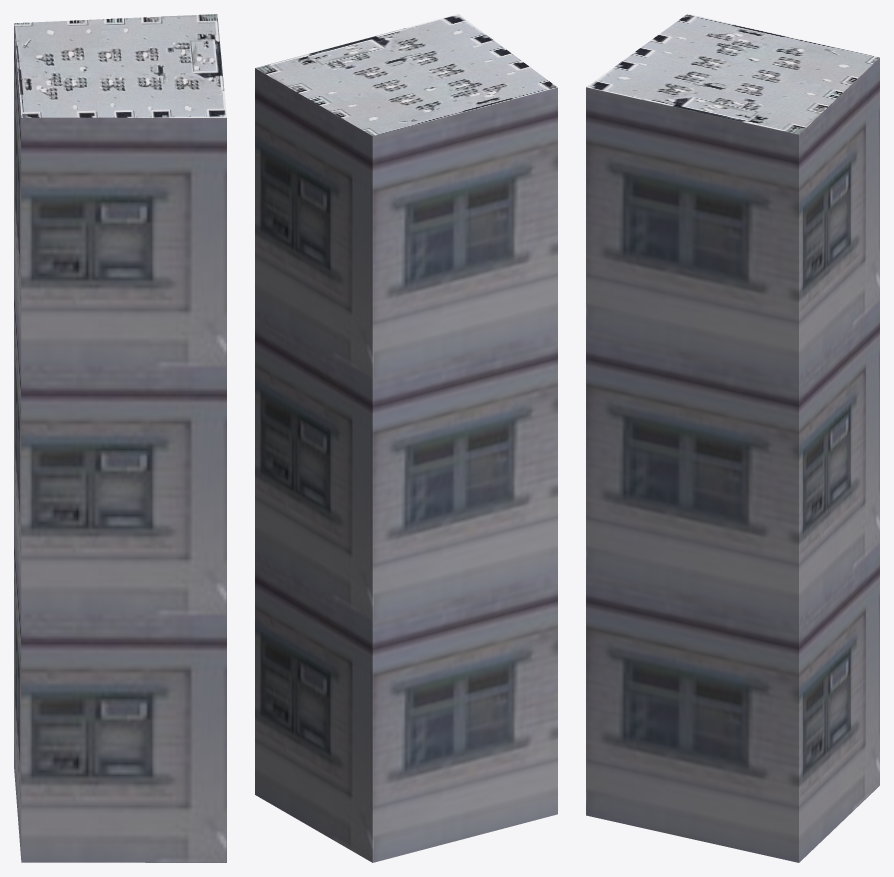
The model's file is ResTex__4058.fbx.
The picture shows the model from 3 angles, left to right: view 1: azimuth 30°, elevation 25°; view 2: azimuth 150°, elevation 25°; view 3: azimuth 270°, elevation 25°; orthographic projection. The views are drawn at different scales.
Visible parts, largest first — view 1: CityEngineMaterial_1_m, CityEngineMaterial_m; view 2: CityEngineMaterial_1_m, CityEngineMaterial_m; view 3: CityEngineMaterial_1_m, CityEngineMaterial_m.
Part boxes in pixels (x1,y1,x2,y2): CityEngineMaterial_1_m: (14, 24, 226, 862); CityEngineMaterial_m: (14, 14, 226, 117); CityEngineMaterial_1_m: (255, 68, 557, 862); CityEngineMaterial_m: (255, 14, 557, 135); CityEngineMaterial_1_m: (586, 58, 879, 862); CityEngineMaterial_m: (586, 14, 879, 134).
Bounding box in the file's own units: 3.2 × 9 × 3.29.
Materials: 2 (2 with a texture image).
